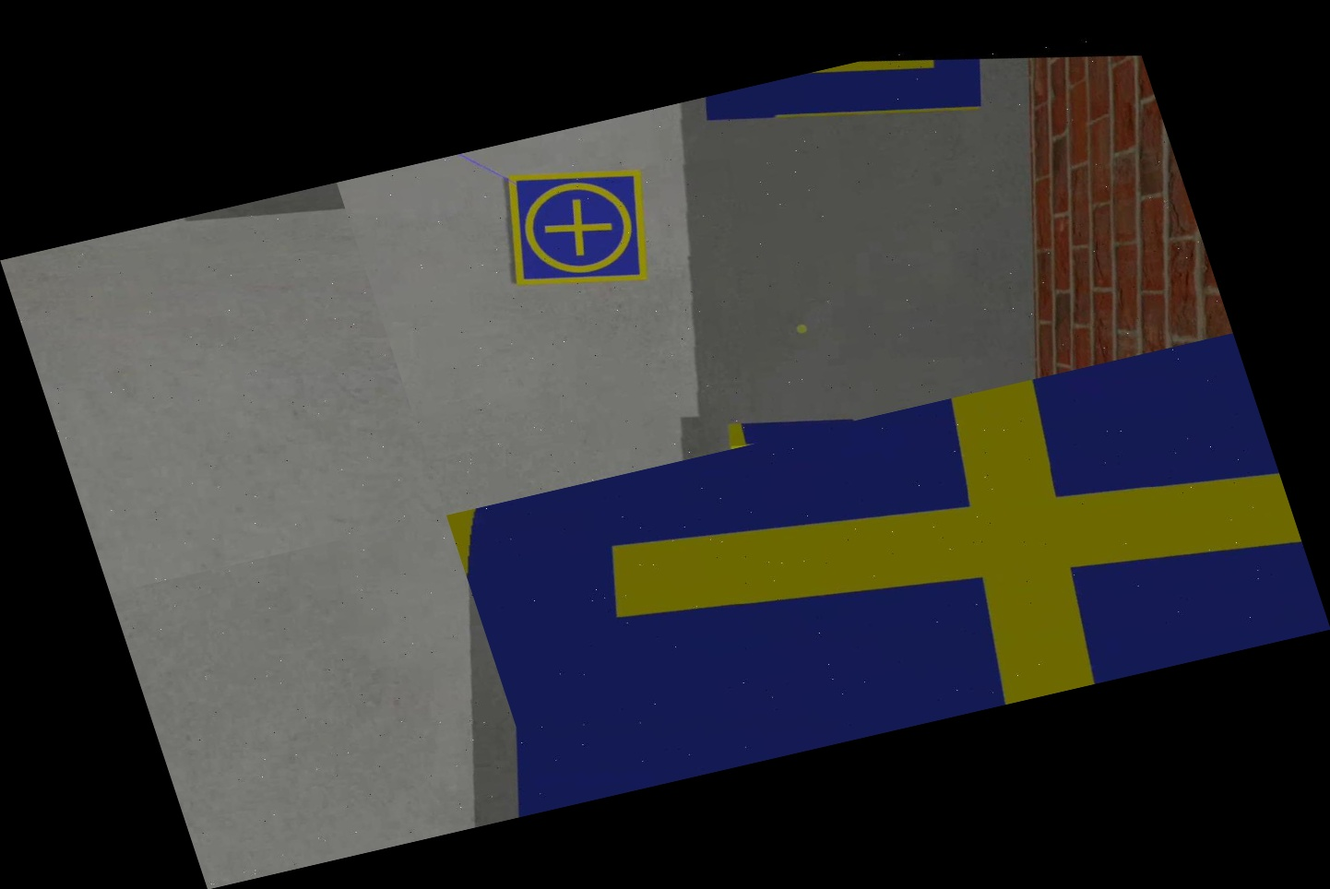large_base: (695, 35, 996, 177)
small_base: (446, 333, 1330, 811), (474, 141, 683, 316)
